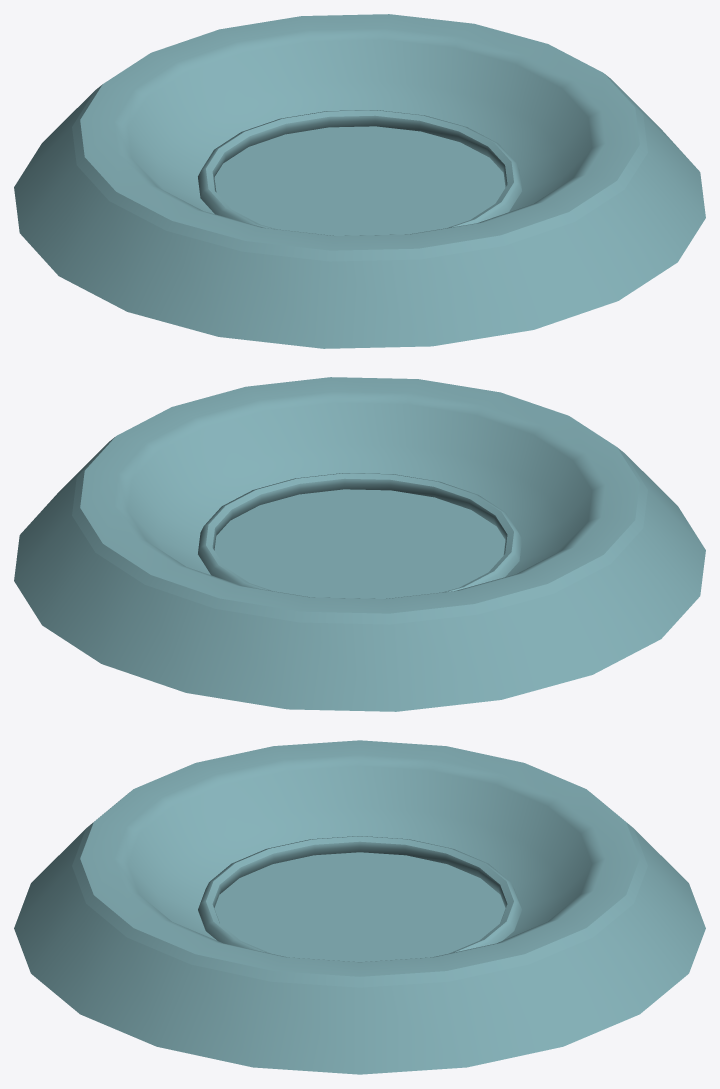
The model's file is table_plazma_place.fbx.
3 renders of one model, top to bottom at view 1: azimuth 30°, elevation 25°; view 2: azimuth 150°, elevation 25°; view 3: azimuth 270°, elevation 25°, orthographic.
Visible parts, largest first — view 1: table_plazma_place; view 2: table_plazma_place; view 3: table_plazma_place.
Boxes of the visible parts, box(x1,y1,x2,y2) form: table_plazma_place: box(14, 14, 705, 348); table_plazma_place: box(14, 377, 705, 711); table_plazma_place: box(14, 740, 705, 1074).
Bounding box in the file's own units: 87.36 × 9.73 × 87.36.
